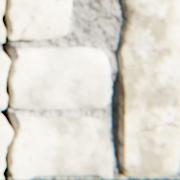brick: (117, 0, 179, 176)
broken_brick: (10, 115, 110, 177), (10, 47, 109, 109), (8, 0, 70, 39), (0, 119, 11, 177), (0, 51, 8, 107), (0, 21, 3, 41), (0, 0, 3, 14)
crack: (0, 0, 179, 179), (131, 118, 179, 131), (148, 110, 157, 117)
